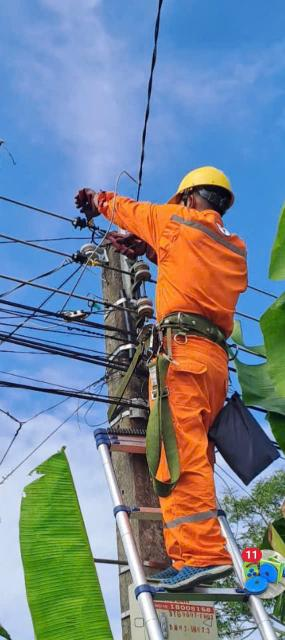gloves: (63, 173, 120, 227)
harness: (152, 303, 258, 355)
helmet: (155, 149, 252, 216)
shoes: (142, 551, 236, 594)
